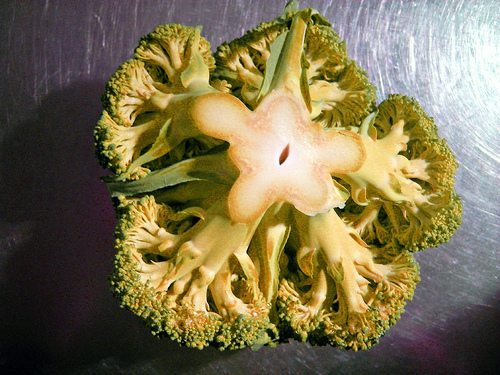broccoli: (94, 9, 465, 352)
